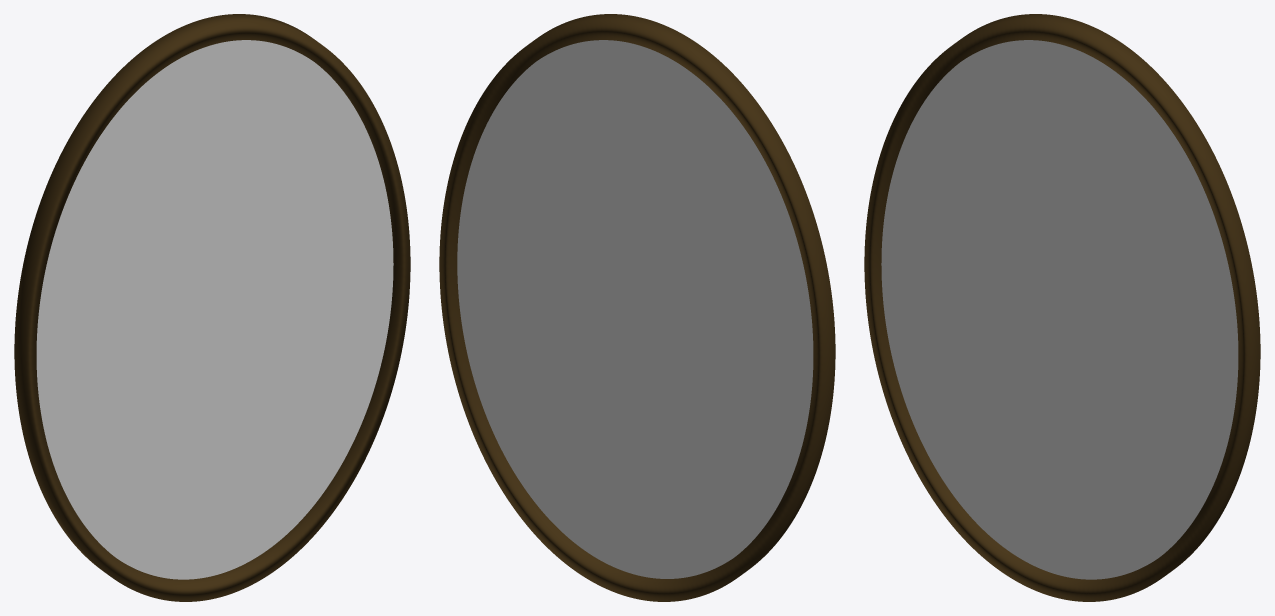
The model's file is mirror.glb.
3 views of the same model, side by side, from view 1: azimuth 30°, elevation 25°; view 2: azimuth 150°, elevation 25°; view 3: azimuth 330°, elevation 25° (orthographic).
Visible parts, largest first — view 1: Circle.001, Circle; view 2: Circle.001, Circle; view 3: Circle.001, Circle.
Part boxes in pixels (<box>): Circle.001: <box>36,40,393,579</box>; Circle: <box>14,14,410,601</box>; Circle.001: <box>457,40,813,578</box>; Circle: <box>439,14,835,601</box>; Circle.001: <box>881,40,1238,579</box>; Circle: <box>864,14,1260,601</box>.
Bounding box in the file's own units: 0.6 × 0.85 × 0.025.
